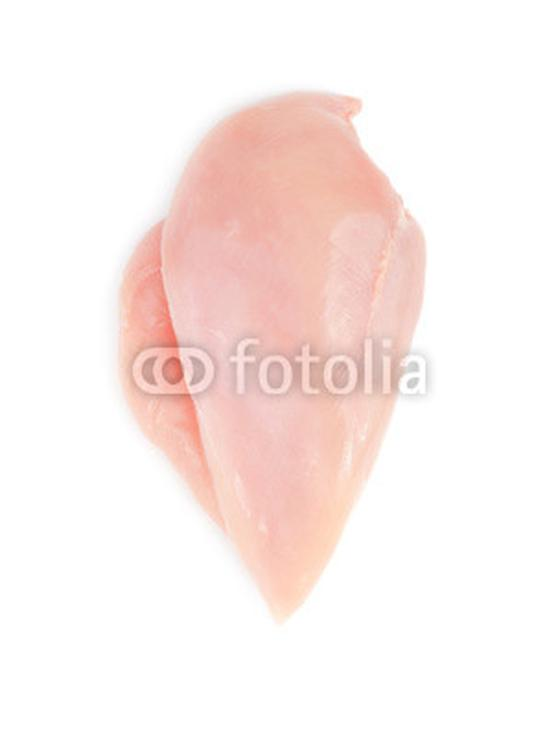chicken_fillet: (126, 89, 430, 626)
